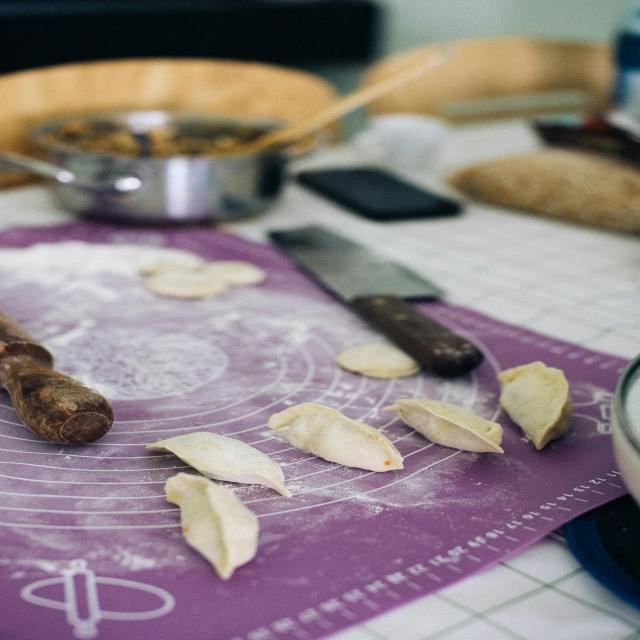knife: (272, 222, 487, 378)
